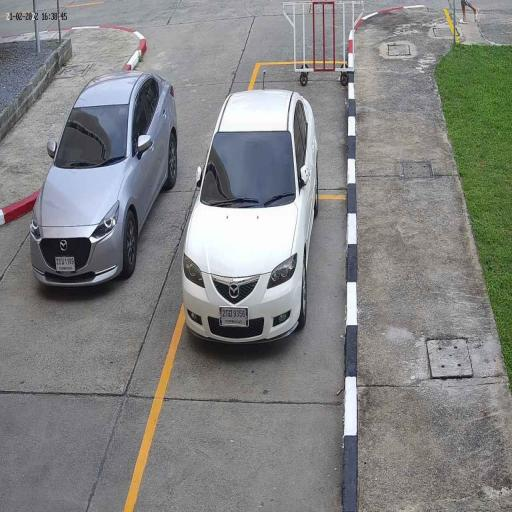car: (182, 88, 319, 345), (30, 70, 178, 288)
